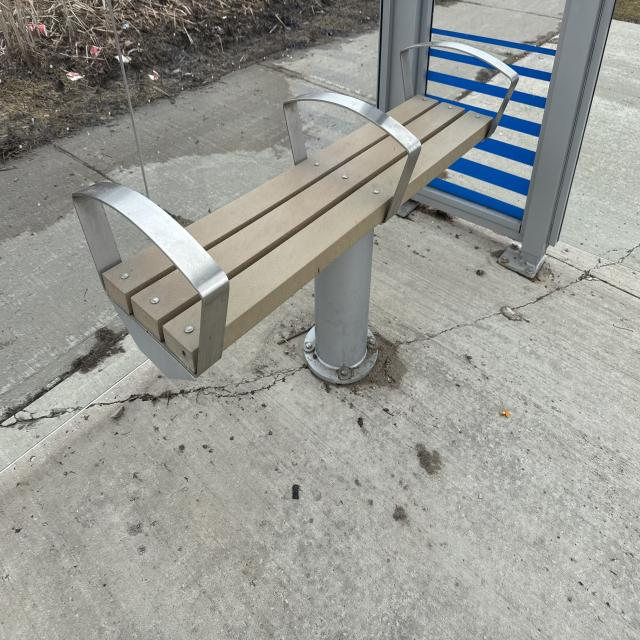Bench: (68, 38, 548, 397)
